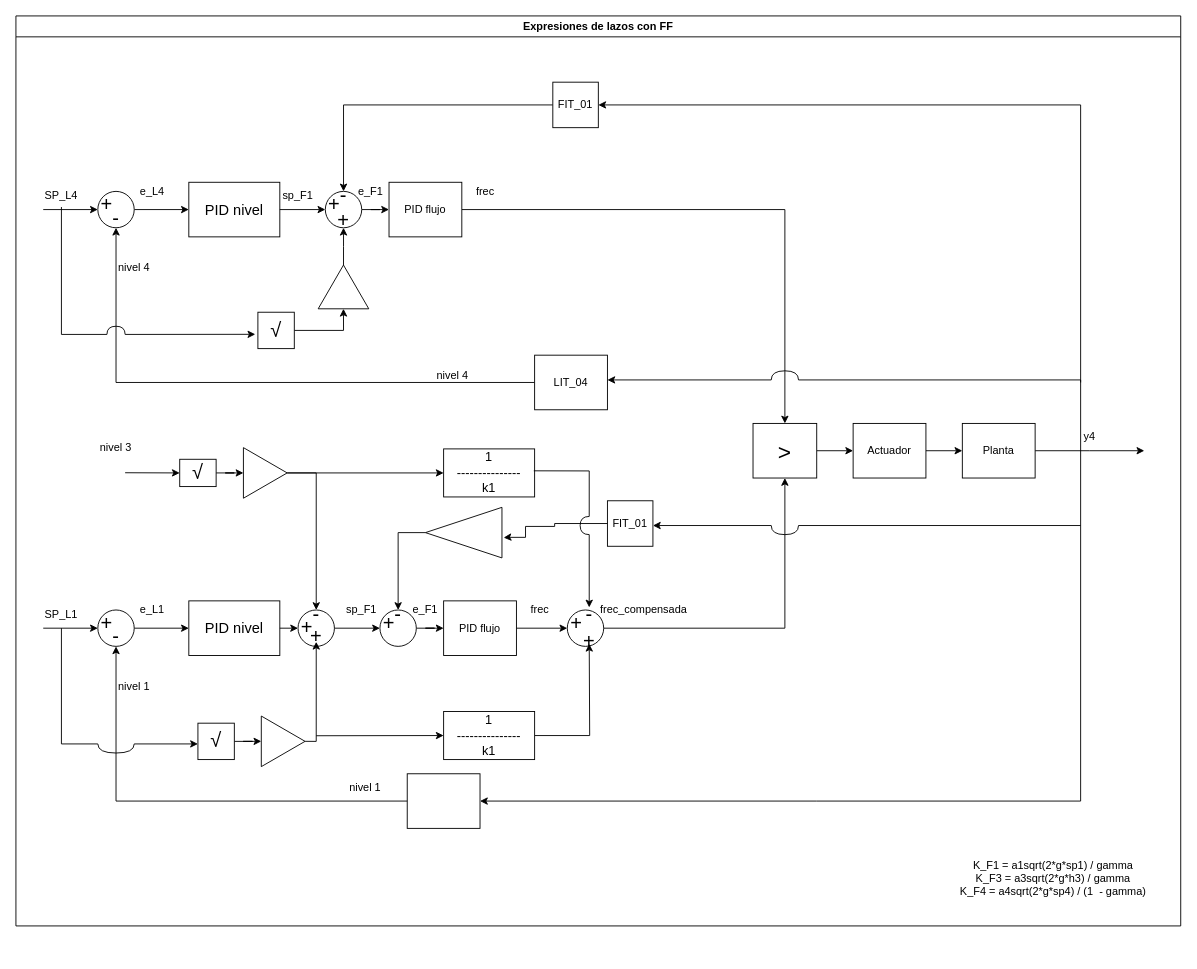
Some shapes in this 1197 by 969 pixel diagram are drawn without their labels. Each missing label, with the centre of its shape:
"gamma1" goes at (x=463, y=532).
"K_F1" goes at (x=282, y=741).
"K_F3" goes at (x=265, y=472).
"K_F4" goes at (x=343, y=286).
"LIT_01" goes at (x=443, y=800).
